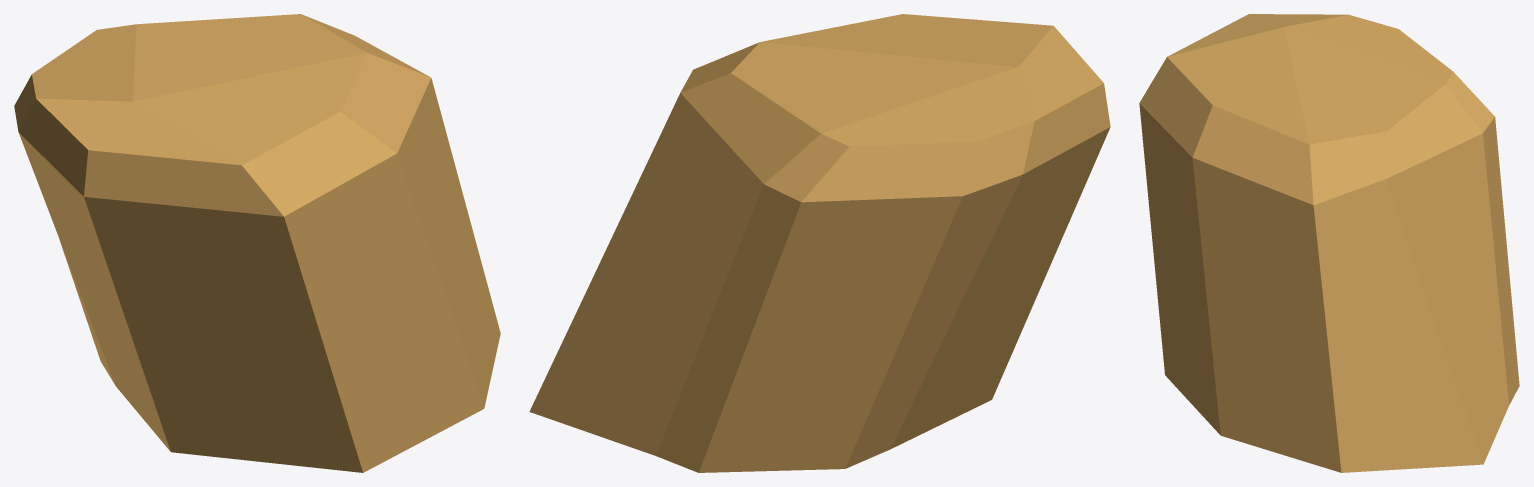
File: Rock_1.glb
3 renders of one model, left to right at view 1: azimuth 30°, elevation 25°; view 2: azimuth 150°, elevation 25°; view 3: azimuth 270°, elevation 25°, orthographic. The views are drawn at different scales.
Parts seen in each view (by area): view 1: Rock_1; view 2: Rock_1; view 3: Rock_1.
Boxes of the visible parts, x1,y1,x2,y2 form: Rock_1: (14,14,500,472); Rock_1: (529,14,1110,472); Rock_1: (1139,14,1519,472).
Bounding box in the file's own units: 2.44 × 1.75 × 2.1.
